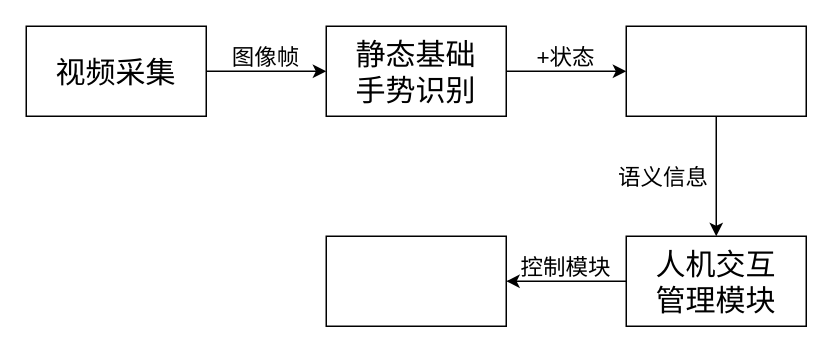
The diagram is 833 pixels wide and 353 high, and some of its shapes have lost their labels. Here are the shapes that lost their labels. From the top down, the box of each, then its label:
(625, 25, 806, 116): 动态手 势识别
(325, 235, 506, 326): 应用程序 控制
